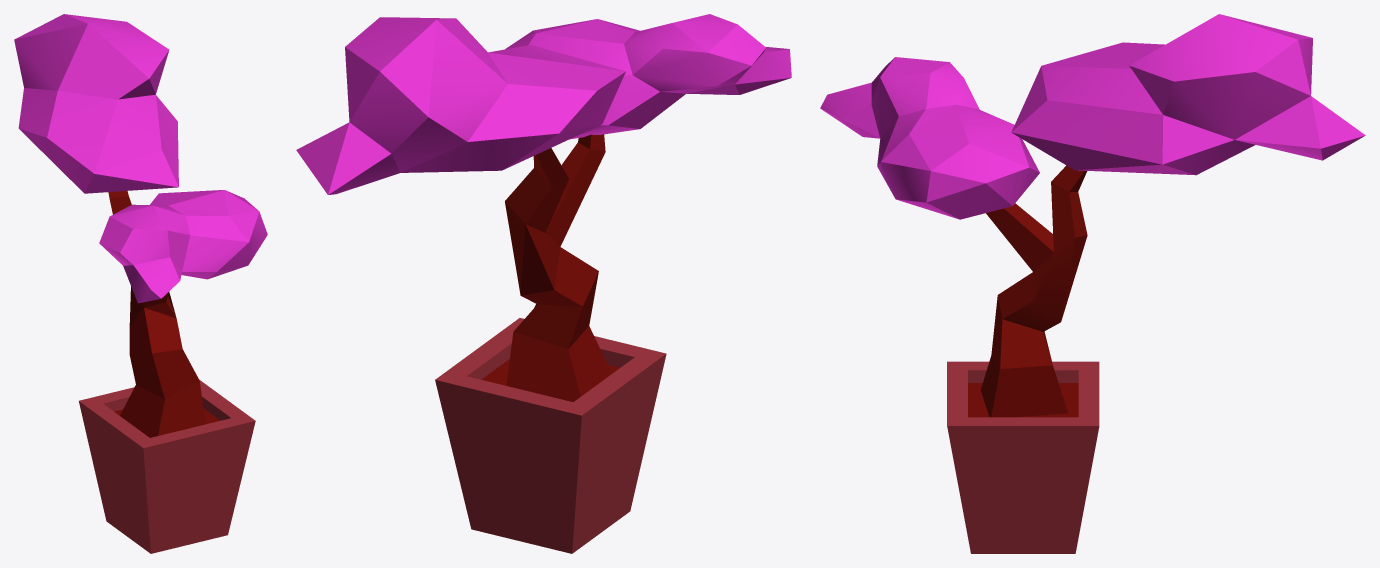
File: Bansai.fbx
3 renders of one model, left to right at view 1: azimuth 30°, elevation 25°; view 2: azimuth 150°, elevation 25°; view 3: azimuth 270°, elevation 25°, orthographic. The views are drawn at different scales.
Visible parts, largest first — view 1: SM_Bansai_01; view 2: SM_Bansai_01; view 3: SM_Bansai_01.
Part boxes in pixels (box(x1,y1,x2,y2)): SM_Bansai_01: box(14, 14, 267, 553); SM_Bansai_01: box(296, 14, 791, 553); SM_Bansai_01: box(820, 14, 1365, 553).
Size of the model in its own units: 19.03 by 44.55 by 42.36.
